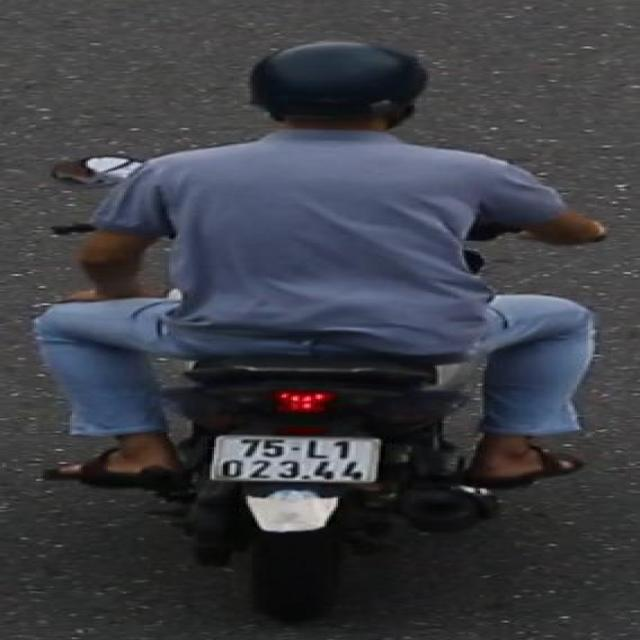LP: (203, 431, 390, 489)
helmet: (236, 35, 438, 149)
